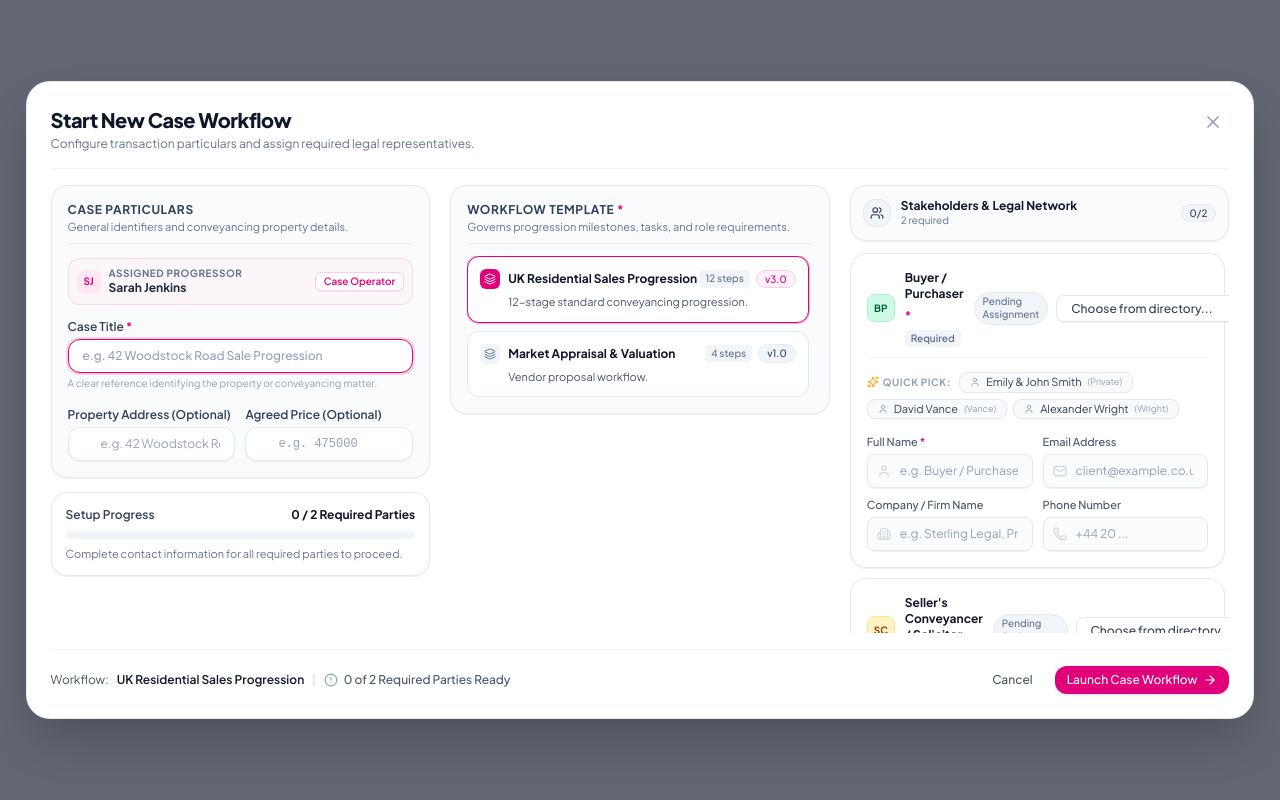
Scenario: CreateCaseModal › validates missing required stakeholders before submitting
Expected: the text "12-stage standard conveyancing progression." is shown, [508, 295, 748, 308]
Step 1. Type "99 Oxford High Street - Sale" into the field with placeholder "e.g. 42 Woodstock Road Sale Progression" → (240,356), box [68, 339, 413, 373]
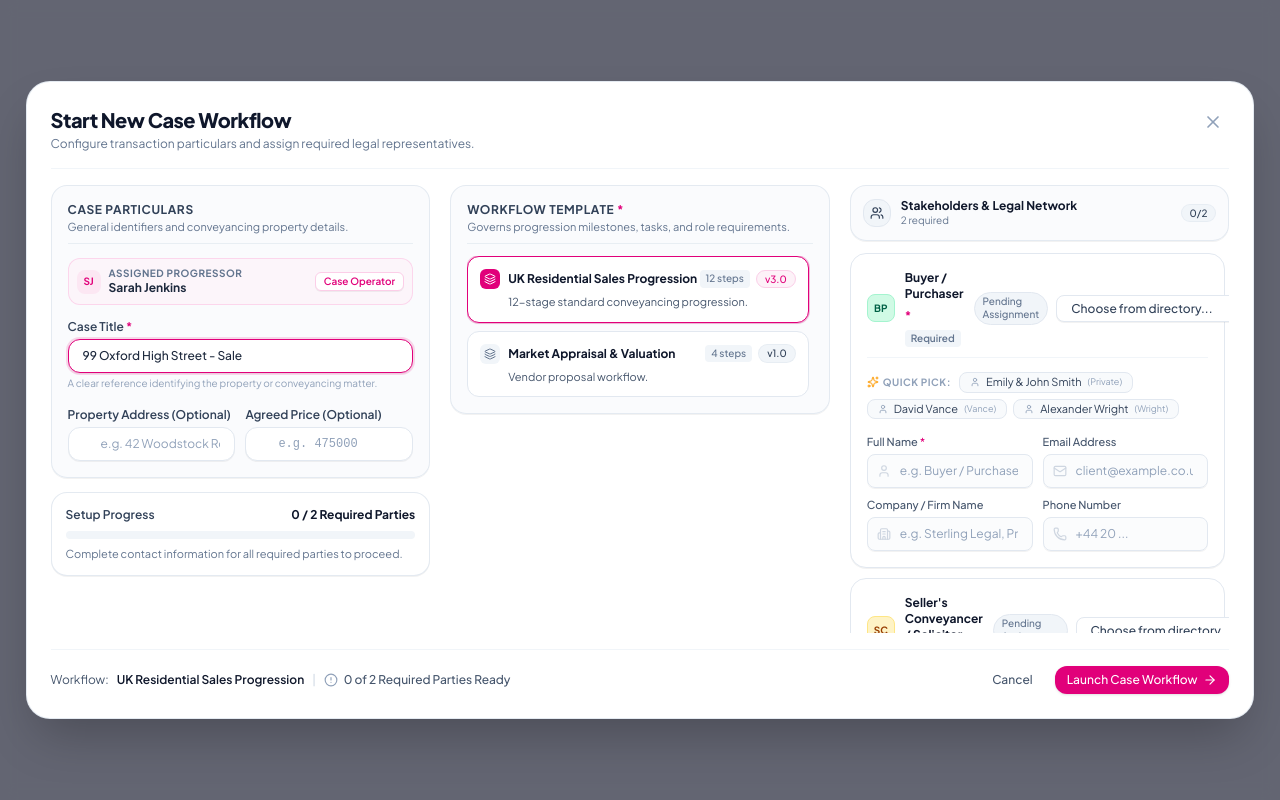
Step 2. Click the button "Launch Case Workflow" → (1142,680), box [1055, 666, 1229, 694]
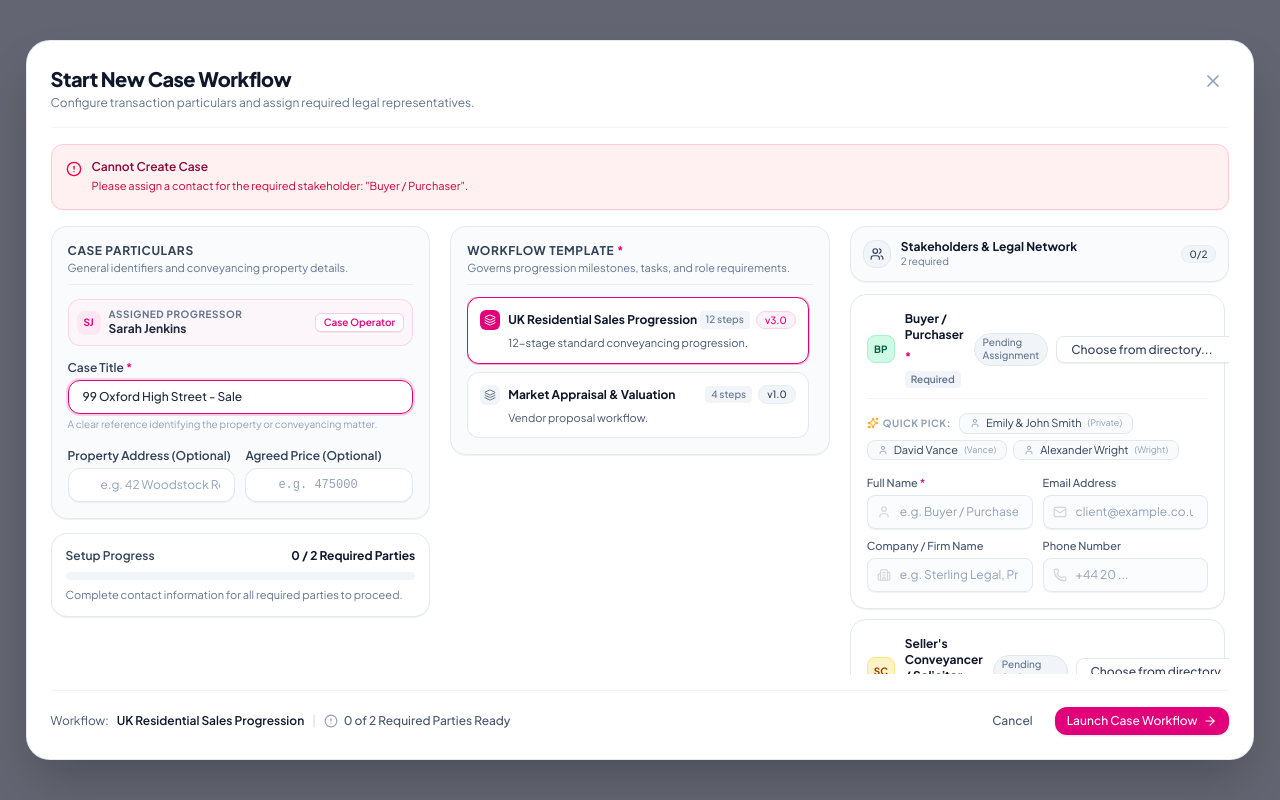
Expected: the text "Please assign a contact for the required stakeholder" is shown, [92, 179, 468, 192]
